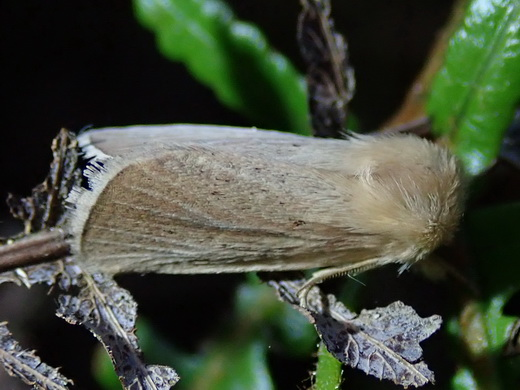Noctuidae: (61, 124, 460, 284)
